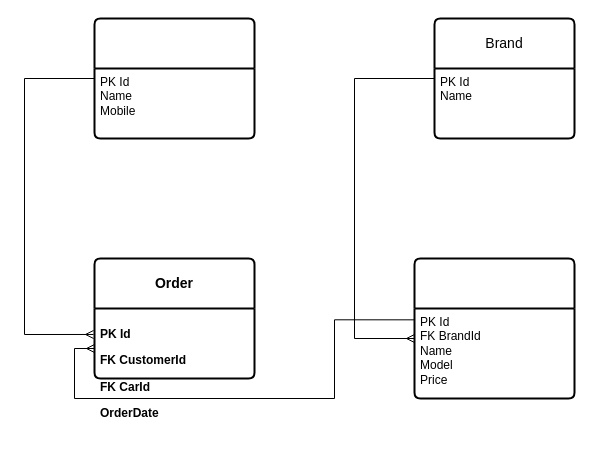
The diagram is 593 pixels wide and 450 high, and some of its shapes have lost their labels. The shapes that lost their labels are listed below. From the top down, each one's box as (x1, y1, x2, y2) in pixels, then its label:
(93, 17, 255, 139): Customer
(413, 257, 575, 399): Car
